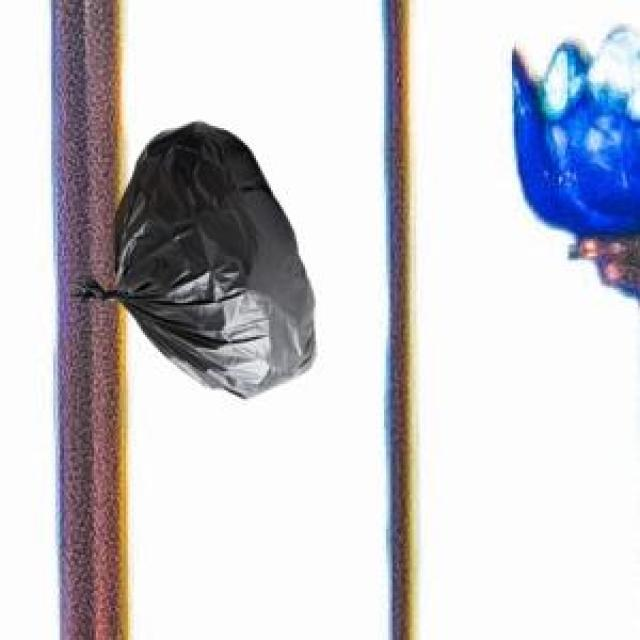Trashbag: (69, 119, 324, 404)
